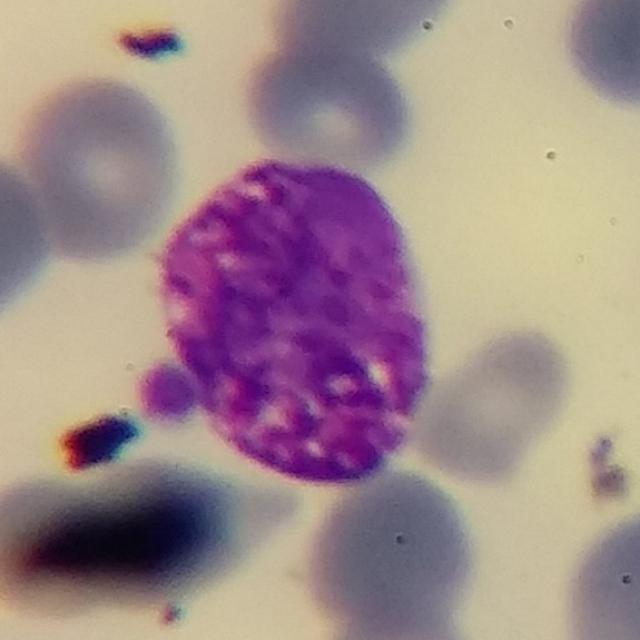baso: (143, 141, 448, 493)
